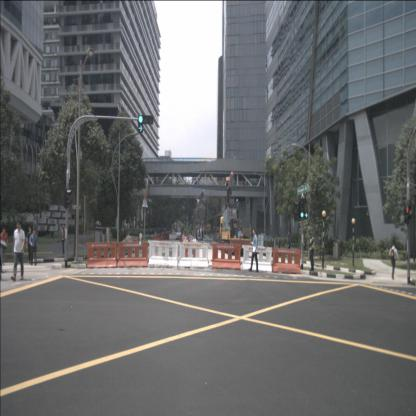barrier: (148, 240, 179, 268), (86, 242, 118, 269), (178, 242, 209, 269), (242, 245, 273, 272), (117, 242, 149, 268), (210, 244, 242, 270), (272, 248, 301, 274), (162, 234, 170, 240), (169, 234, 176, 240), (153, 234, 158, 242), (158, 234, 161, 242)
